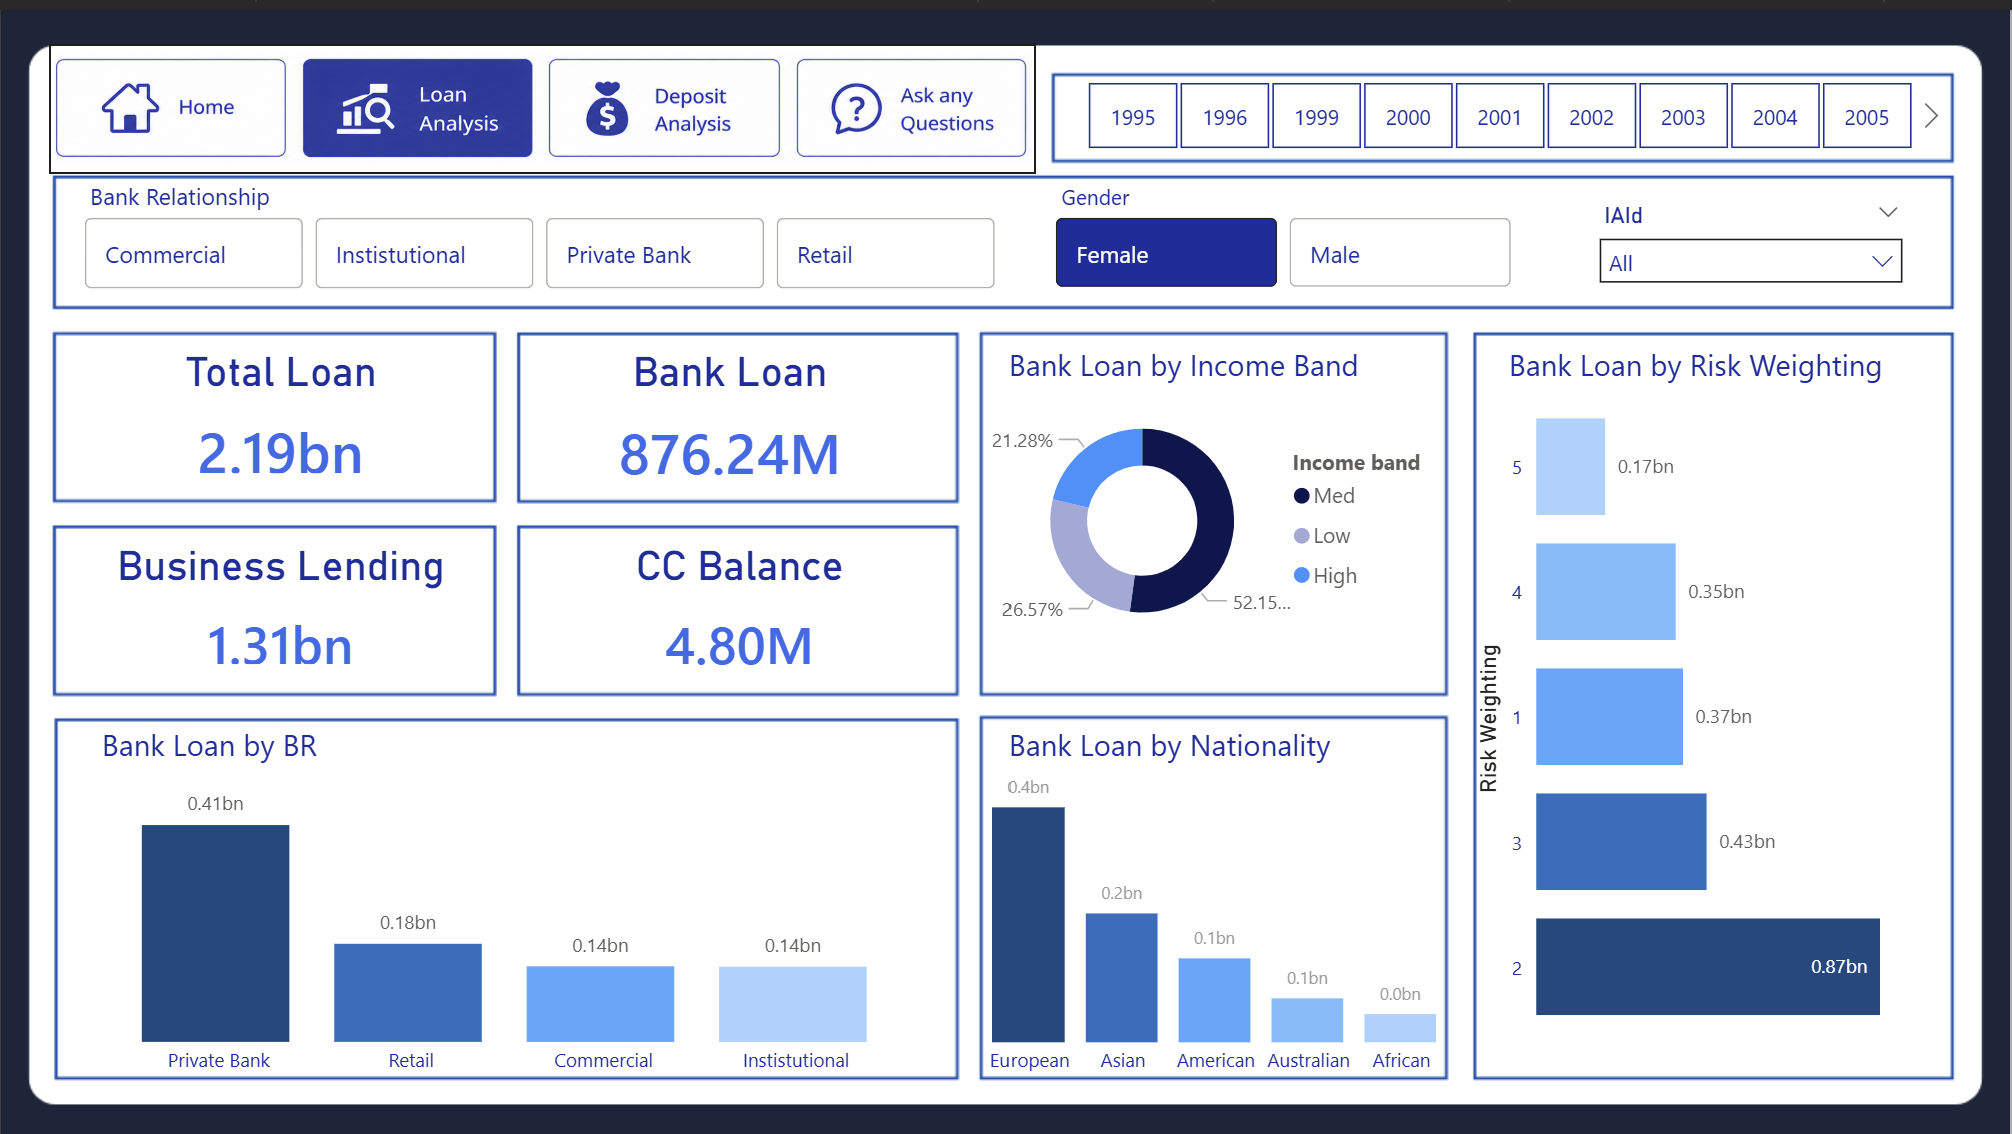

This screenshot's page, from the dashboard's own definition file:
{"tool":"powerbi","page":{"name":"Loan Analysis","canvas":[1280,720],"ordinal":1},"visuals":[{"type":"slicer","fields":{"Values":["banking customer.year of joined"]},"box":[667.1,40,574.3,55.7],"z":0},{"type":"cardVisual","title":"Total Loan","fields":{"Data":["banking customer.Total Loan Amount"]},"box":[35.7,215.7,285.7,97.1],"z":1000},{"type":"cardVisual","title":"Bank Loan","fields":{"Data":["Sum(banking customer.Bank Loans)"]},"box":[321.4,215.7,287.1,98.6],"z":2000},{"type":"cardVisual","title":"Business Lending","fields":{"Data":["Sum(banking customer.Business Lending)"]},"box":[35.7,339.1,285.6,95.6],"z":3000},{"type":"cardVisual","title":"CC Balance","fields":{"Data":["Sum(banking customer.Credit Card Balance)"]},"box":[332.7,339.1,276.7,96.9],"z":4000},{"type":"donutChart","fields":{"Category":["banking customer.Income band"],"Y":["Sum(banking customer.Bank Loans)"]},"box":[625.7,215.7,295.7,220],"z":5000},{"type":"textbox","box":[625.7,205.7,295.7,48.6],"z":6000},{"type":"clusteredColumnChart","title":"  Bank Loan by BR","fields":{"Category":["banking customer.banking type"],"Y":["Sum(banking customer.Bank Loans)"]},"box":[35.7,480,574.3,207.1],"z":7000},{"type":"clusteredColumnChart","title":"  Bank Loan by BR","fields":{"Category":["banking customer.Nationality"],"Y":["Sum(banking customer.Bank Loans)"]},"box":[602.9,467.1,341.4,221.4],"z":8000},{"type":"textbox","box":[625.7,447.1,295.7,44.3],"z":9000},{"type":"textbox","box":[48.6,447.1,295.7,48.6],"z":10000},{"type":"clusteredBarChart","fields":{"Category":["banking customer.Risk Weighting"],"Y":["banking customer.Total Loan Amount"]},"box":[934.3,215.7,310,464.3],"z":11000},{"type":"textbox","box":[944.3,205.7,295.7,60],"z":12000},{"type":"advancedSlicerVisual","fields":{"Values":["banking customer.banking type"]},"box":[48.6,127.1,591.4,55.7],"z":13000},{"type":"textbox","box":[35.7,102.9,308.6,52.9],"z":14000},{"type":"advancedSlicerVisual","fields":{"Values":["banking customer.Gender"]},"box":[667.1,127.1,300,54.3],"z":15000},{"type":"textbox","box":[667.1,104.3,192.9,52.9],"z":16000},{"type":"slicer","fields":{"Values":["banking customer.IAId"]},"box":[1008.6,117.1,212.9,65.7],"z":17000},{"type":"actionButton","box":[35,31.7,111.7,63.3],"z":18000},{"type":"actionButton","box":[276.7,30,111.7,63.3],"z":19000},{"type":"actionButton","box":[403.3,30,111.7,63.3],"z":20000},{"type":"actionButton","box":[530,31.7,111.7,63.3],"z":21000},{"type":"image","box":[30.6,21.7,628.5,82.9],"z":22000},{"type":"actionButton","box":[350.6,30.6,144.1,62.5],"z":23000},{"type":"actionButton","box":[507.4,31.9,144.1,62.5],"z":24000},{"type":"actionButton","box":[37,31.9,144.1,62.5],"z":25000}]}

Visuals, with their boxes in screenshot pixels (x1, y1, x2, y2), scaled from the page's 1280x720 canvas onto the 2012x1134 screenshot:
slicer - banking customer.year of joined: {"x1": 1049, "y1": 63, "x2": 1951, "y2": 151}
"Total Loan" cardVisual: {"x1": 56, "y1": 340, "x2": 505, "y2": 493}
"Bank Loan" cardVisual: {"x1": 505, "y1": 340, "x2": 956, "y2": 495}
"Business Lending" cardVisual: {"x1": 56, "y1": 534, "x2": 505, "y2": 685}
"CC Balance" cardVisual: {"x1": 523, "y1": 534, "x2": 958, "y2": 687}
donutChart - banking customer.Income band x Sum(banking customer.Bank Loans): {"x1": 984, "y1": 340, "x2": 1448, "y2": 686}
textbox: {"x1": 984, "y1": 324, "x2": 1448, "y2": 401}
"  Bank Loan by BR" clusteredColumnChart: {"x1": 56, "y1": 756, "x2": 959, "y2": 1082}
"  Bank Loan by BR" clusteredColumnChart: {"x1": 948, "y1": 736, "x2": 1484, "y2": 1084}
textbox: {"x1": 984, "y1": 704, "x2": 1448, "y2": 774}
textbox: {"x1": 76, "y1": 704, "x2": 541, "y2": 781}
clusteredBarChart - banking customer.Risk Weighting x banking customer.Total Loan Amount: {"x1": 1469, "y1": 340, "x2": 1956, "y2": 1071}
textbox: {"x1": 1484, "y1": 324, "x2": 1949, "y2": 418}
advancedSlicerVisual - banking customer.banking type: {"x1": 76, "y1": 200, "x2": 1006, "y2": 288}
textbox: {"x1": 56, "y1": 162, "x2": 541, "y2": 245}
advancedSlicerVisual - banking customer.Gender: {"x1": 1049, "y1": 200, "x2": 1520, "y2": 286}
textbox: {"x1": 1049, "y1": 164, "x2": 1352, "y2": 248}
slicer - banking customer.IAId: {"x1": 1585, "y1": 184, "x2": 1920, "y2": 288}
actionButton: {"x1": 55, "y1": 50, "x2": 231, "y2": 150}
actionButton: {"x1": 435, "y1": 47, "x2": 611, "y2": 147}
actionButton: {"x1": 634, "y1": 47, "x2": 810, "y2": 147}
actionButton: {"x1": 833, "y1": 50, "x2": 1009, "y2": 150}
image: {"x1": 48, "y1": 34, "x2": 1036, "y2": 165}
actionButton: {"x1": 551, "y1": 48, "x2": 778, "y2": 147}
actionButton: {"x1": 798, "y1": 50, "x2": 1024, "y2": 149}
actionButton: {"x1": 58, "y1": 50, "x2": 285, "y2": 149}
